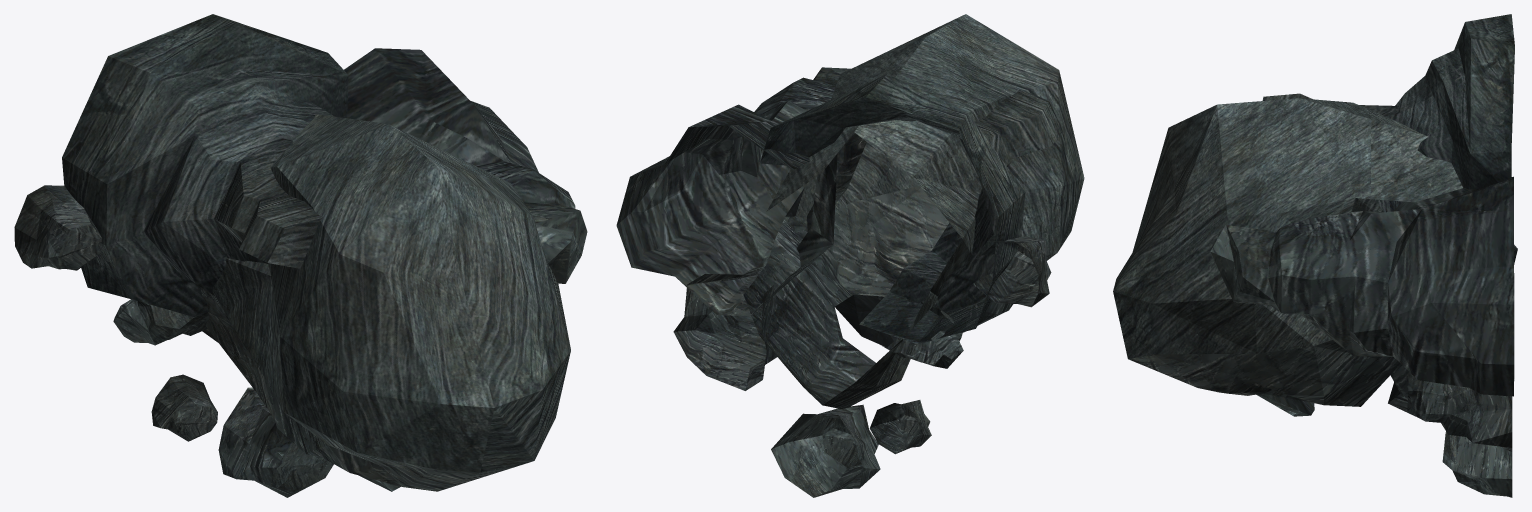
The model's file is yatelandisi_fuben_223_01c.obj.
3 renders of one model, left to right at view 1: azimuth 30°, elevation 25°; view 2: azimuth 150°, elevation 25°; view 3: azimuth 270°, elevation 25°, orthographic. The views are drawn at different scales.
Parts seen in each view (by area): view 1: yatelandisi_fuben_223_01c; view 2: yatelandisi_fuben_223_01c; view 3: yatelandisi_fuben_223_01c.
Boxes of the visible parts, left/top/right/bottom form: yatelandisi_fuben_223_01c: left=14, top=14, right=587, bottom=497; yatelandisi_fuben_223_01c: left=616, top=14, right=1084, bottom=497; yatelandisi_fuben_223_01c: left=1113, top=14, right=1517, bottom=497.
Size of the model in its own units: 435 by 416 by 354.
Materials: 3 (3 with a texture image).
